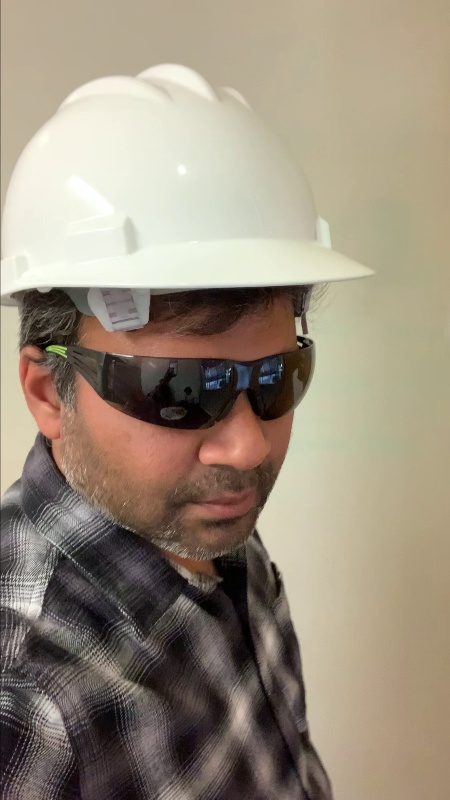glasses: (76, 337, 317, 424)
helmet: (9, 55, 371, 292)
